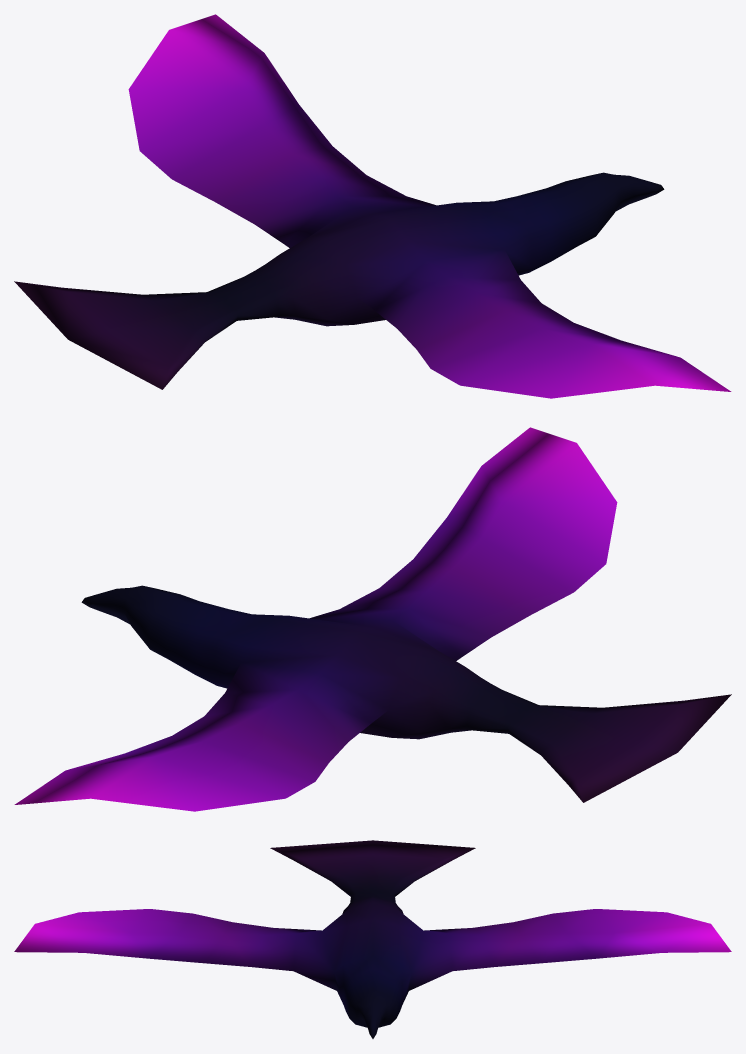
Rendered from BirdTest.glb.
The picture shows the model from 3 angles, top to bottom: view 1: azimuth 30°, elevation 25°; view 2: azimuth 150°, elevation 25°; view 3: azimuth 270°, elevation 25°; orthographic projection. The views are drawn at different scales.
Parts seen in each view (by area): view 1: Bird; view 2: Bird; view 3: Bird.
Boxes of the visible parts, x1,y1,x2,y2 form: Bird: (14,14,731,398); Bird: (14,427,731,811); Bird: (14,840,731,1038).
Bounding box in the file's own units: 2 × 0.3315 × 3.
